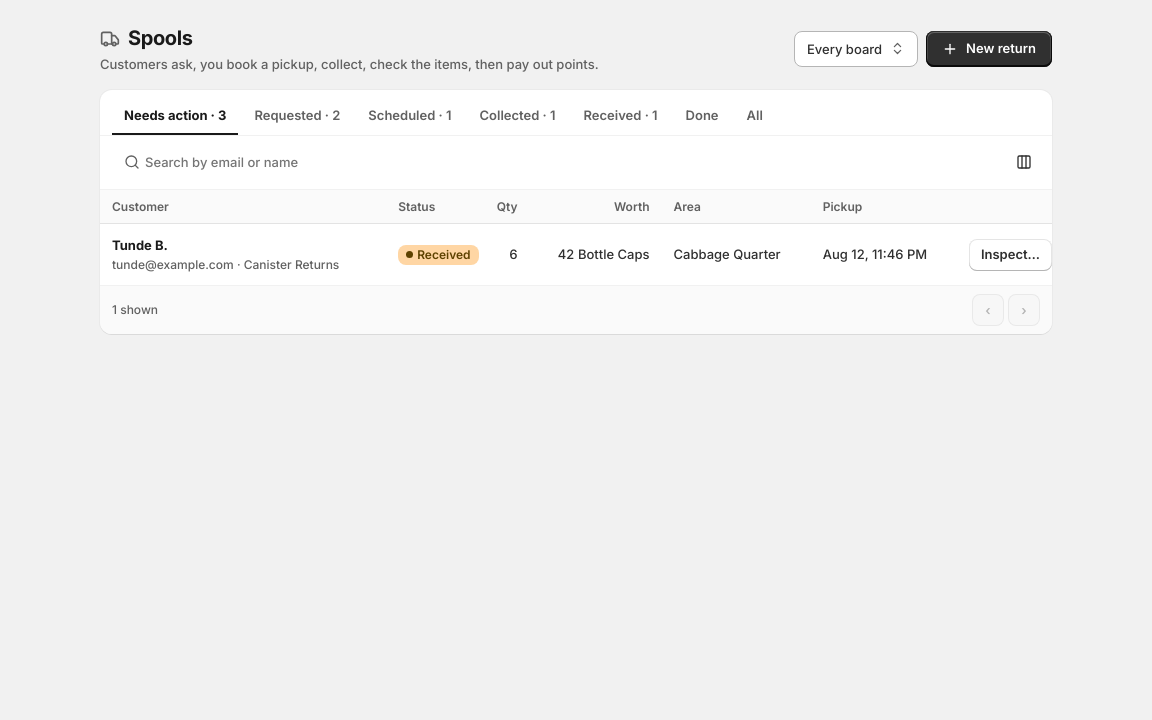
it: what a pickup cost us › shows the district standard as a placeholder, never as a value, and sends null for an empty box
Click the text "Tunde B.": (140, 245) [112,237,168,253]
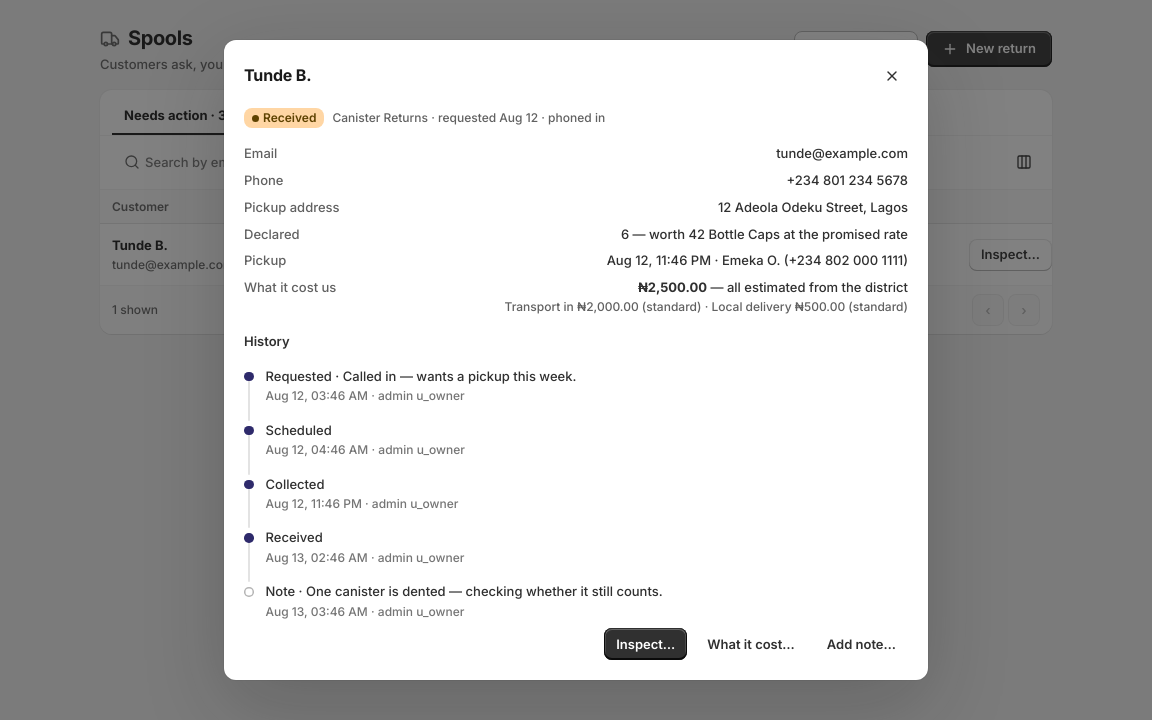
Click the button "What it cost…": (751, 644) [695,628,807,660]
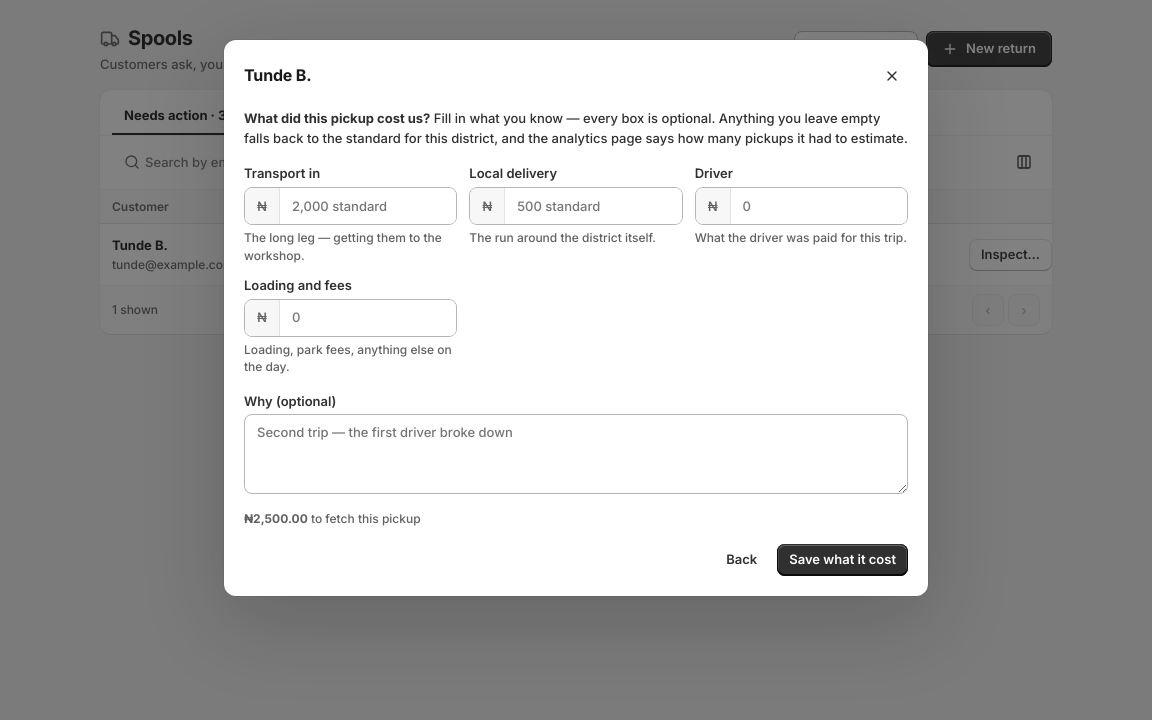
expect the field labelled "Transport in" is empty: met
In the field labelled "Transport in": (368, 206) [280,188,456,224], type "2600"
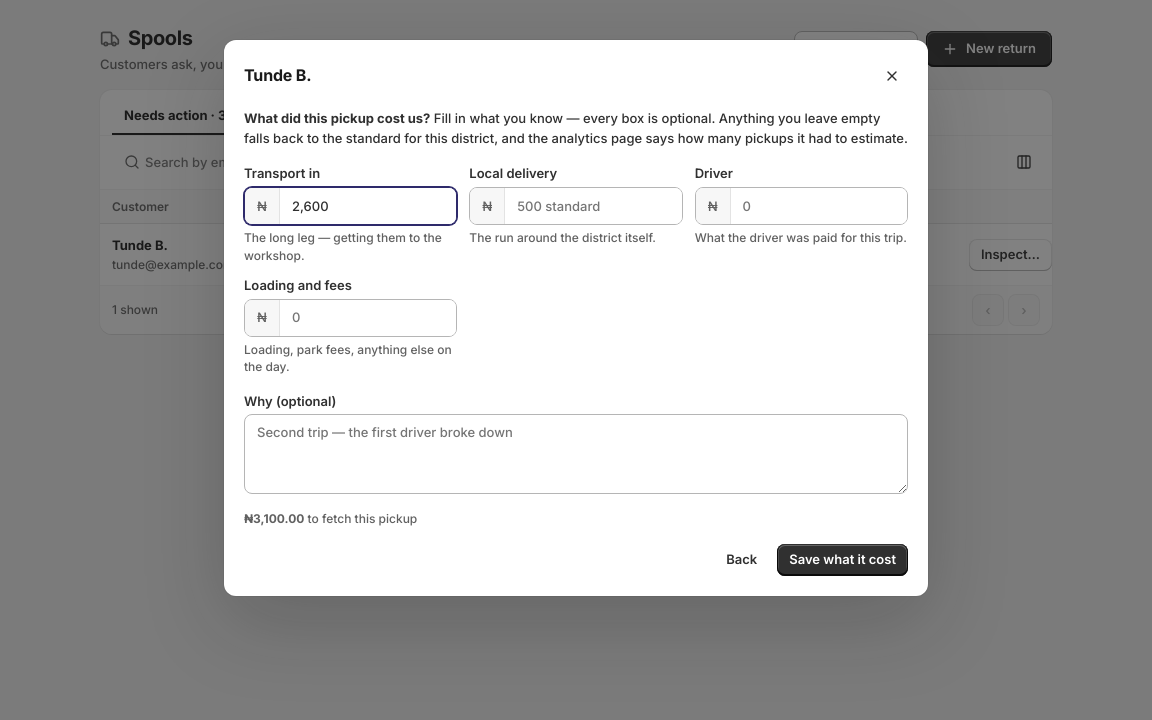
Click the button "Save what it cost": (843, 560) [777,544,908,576]
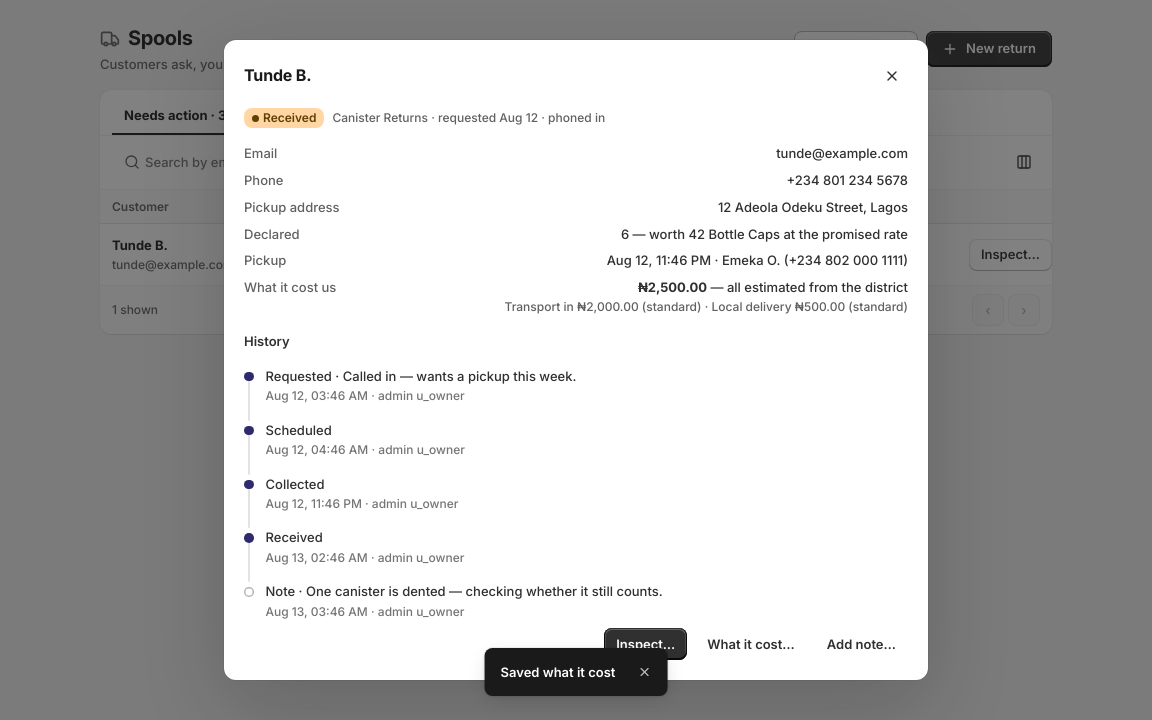
expect the text "Saved what it cost" is shown: met, box [501,663,616,681]
